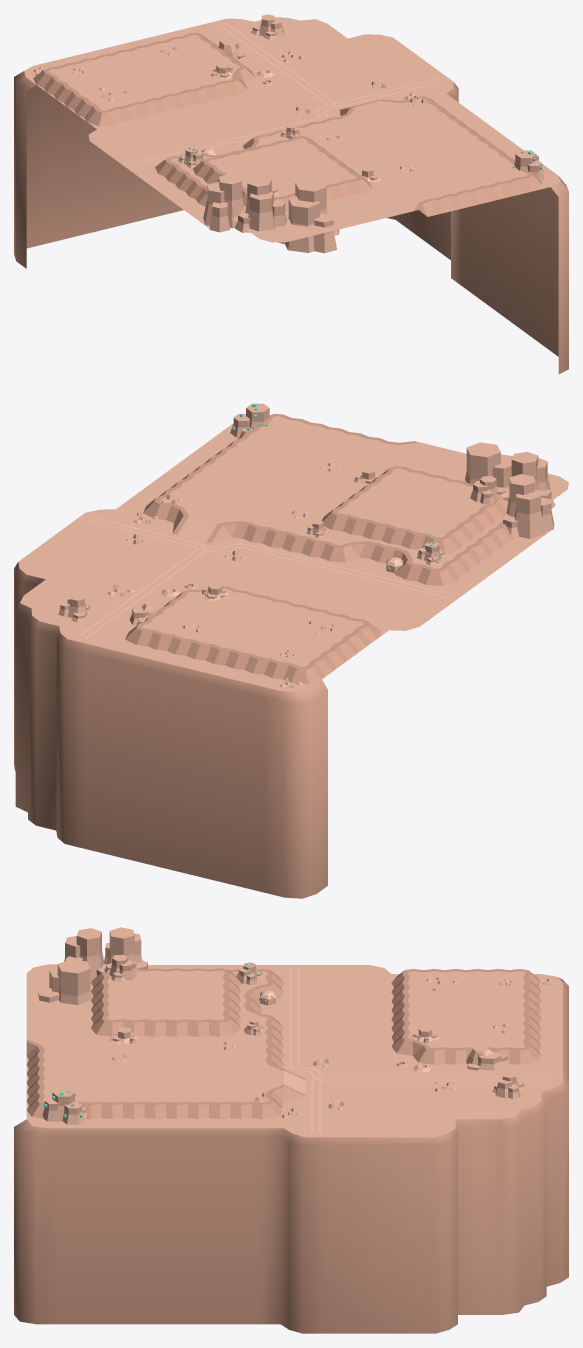
The model's file is terrain_1v3.fbx.
3 renders of one model, top to bottom at view 1: azimuth 30°, elevation 25°; view 2: azimuth 150°, elevation 25°; view 3: azimuth 270°, elevation 25°, orthographic. The views are drawn at different scales.
Visible parts, largest first — view 1: terrain.094; view 2: terrain.094; view 3: terrain.094.
Boxes of the visible parts, box(x1,y1,x2,y2) form: terrain.094: box(14, 14, 568, 374); terrain.094: box(14, 403, 568, 898); terrain.094: box(14, 927, 568, 1333).
Bounding box in the file's own units: 19.24 × 12.59 × 25.86.
